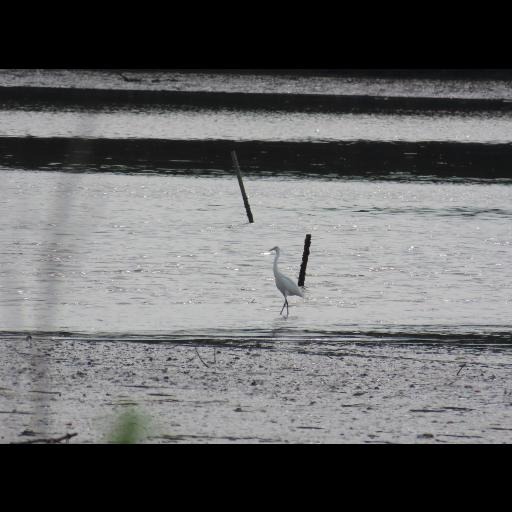chinese_egret: (266, 243, 304, 315)
